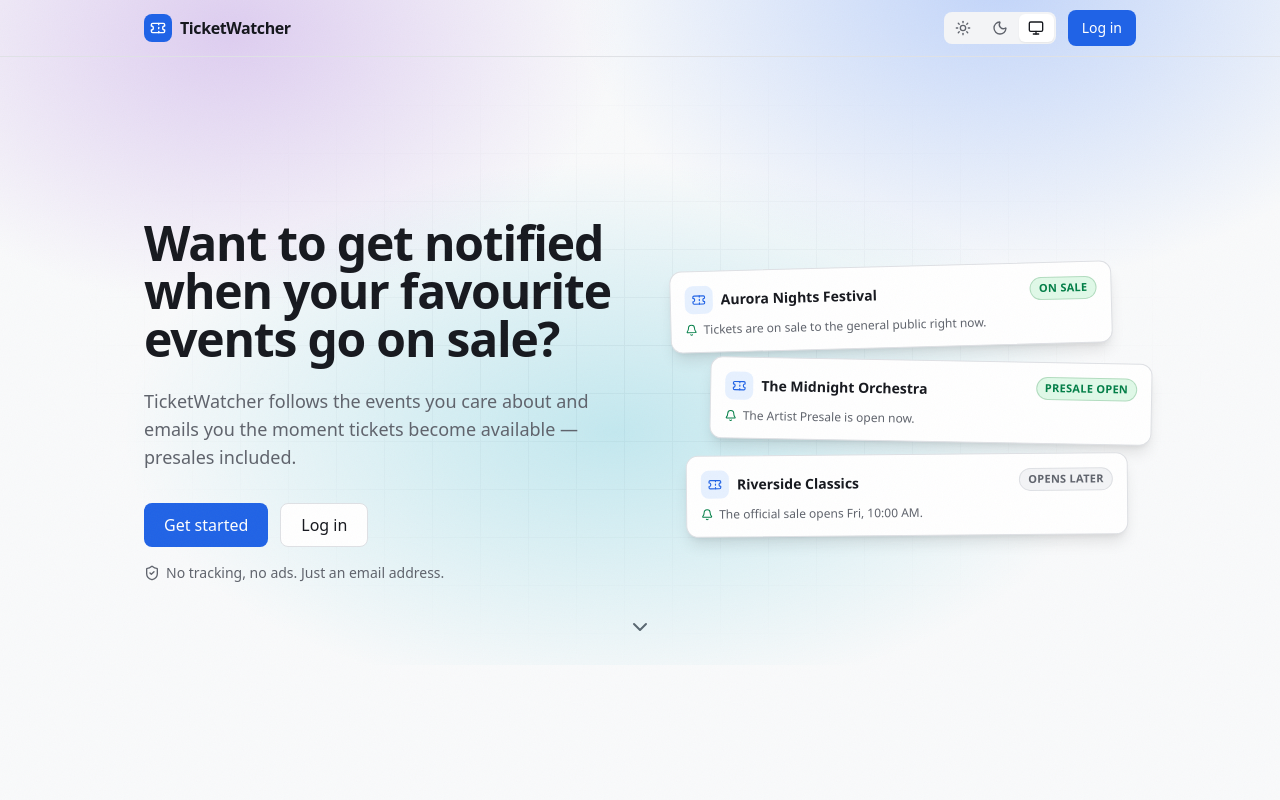
it: App — the logged-out landing page › closes the login modal on Escape
The width and height of the screenshot is (1280, 800).
Click the 1st button "Log in": (1102, 28) 1068,10 -> 1136,46
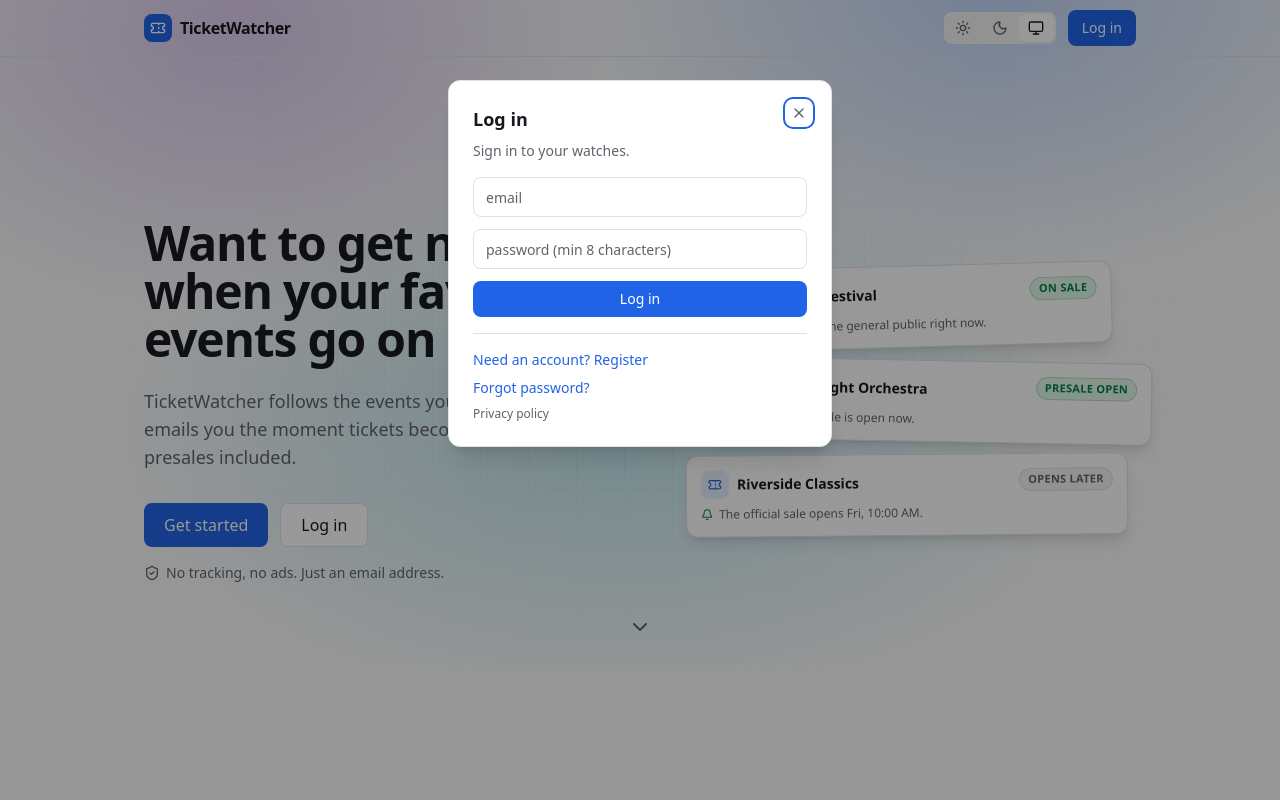
Expected: the dialog is shown, 448,80 -> 832,447
Press Escape
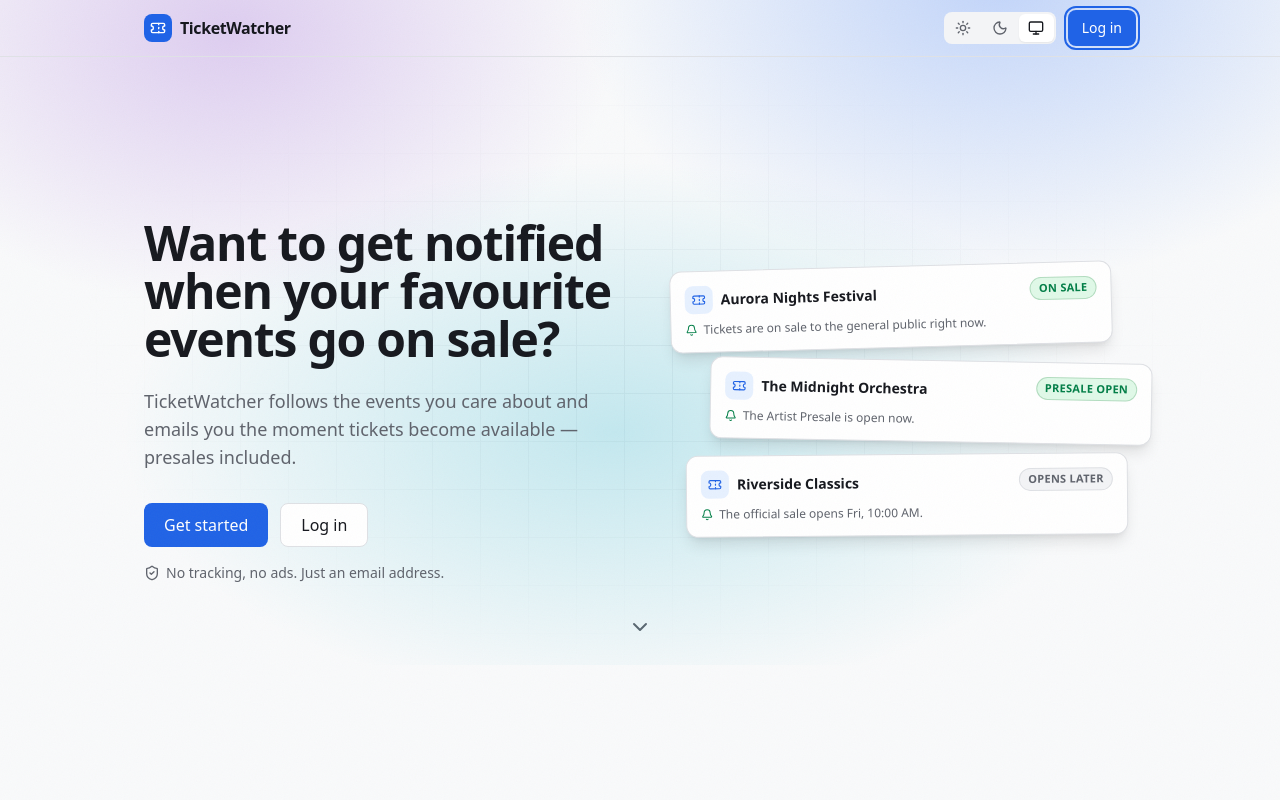
Expected: the dialog is gone
